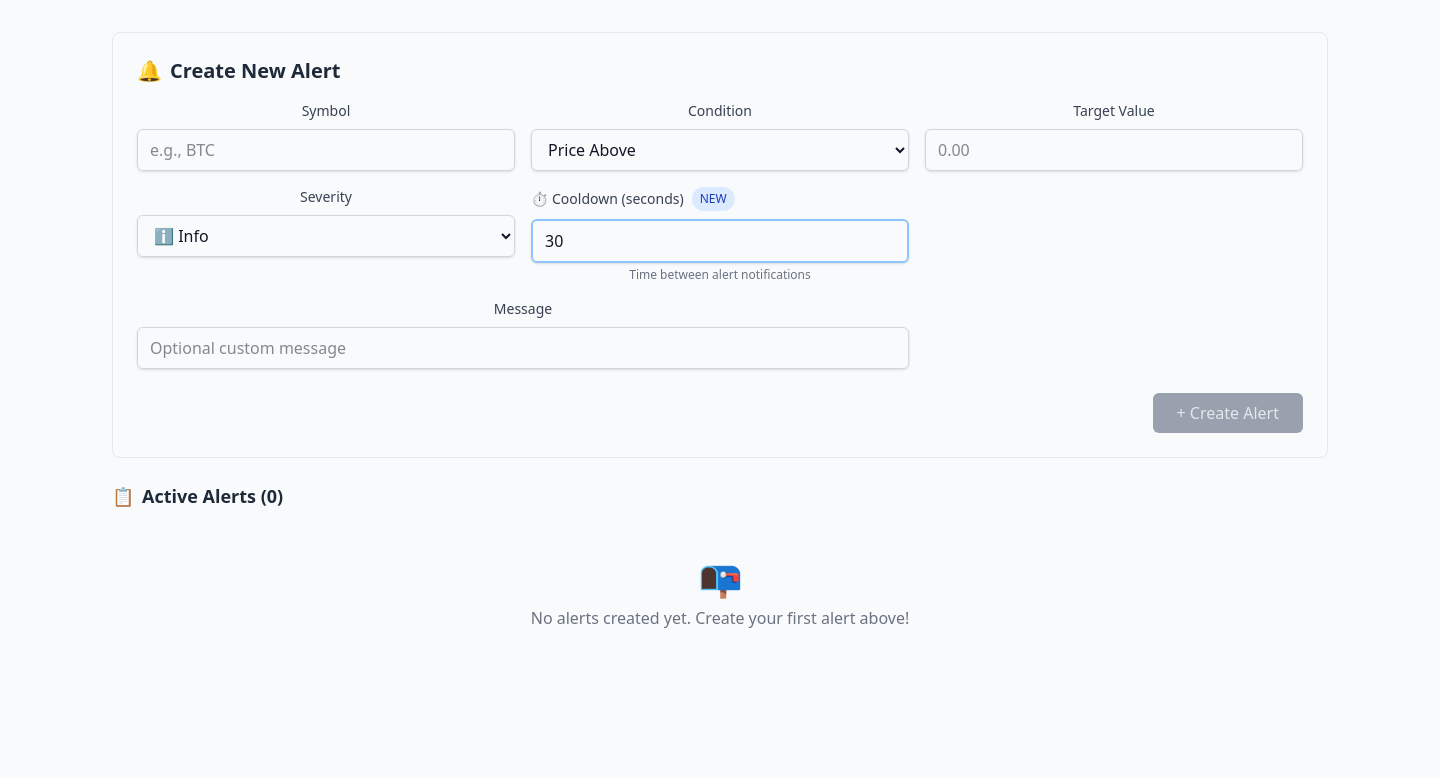
AlertManager › creates a new alert and shows it in the list
Type "BTC" into the field named "symbol" at (326, 150), box [137,129,515,171]
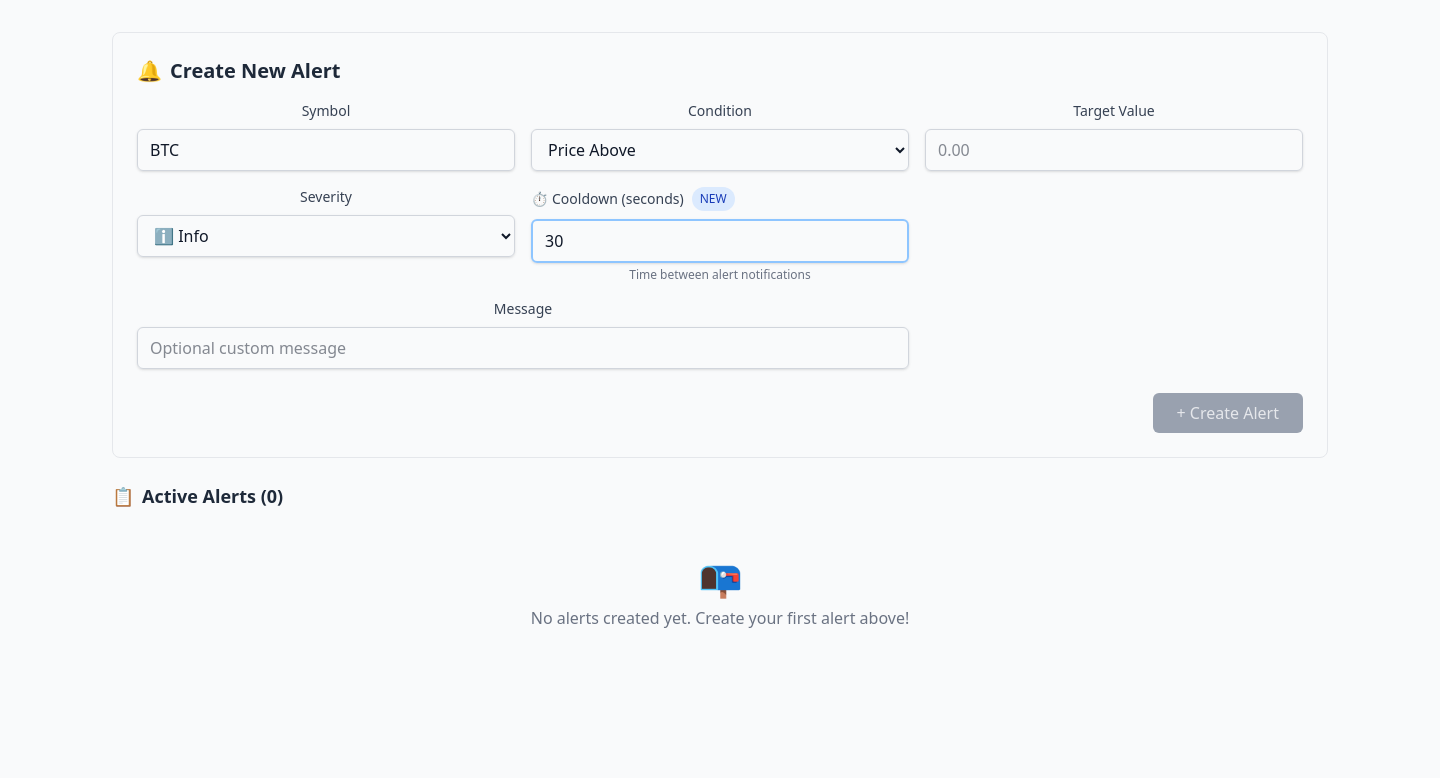
Type "50000" into the number field named "target value" at (1114, 150), box [925,129,1303,171]
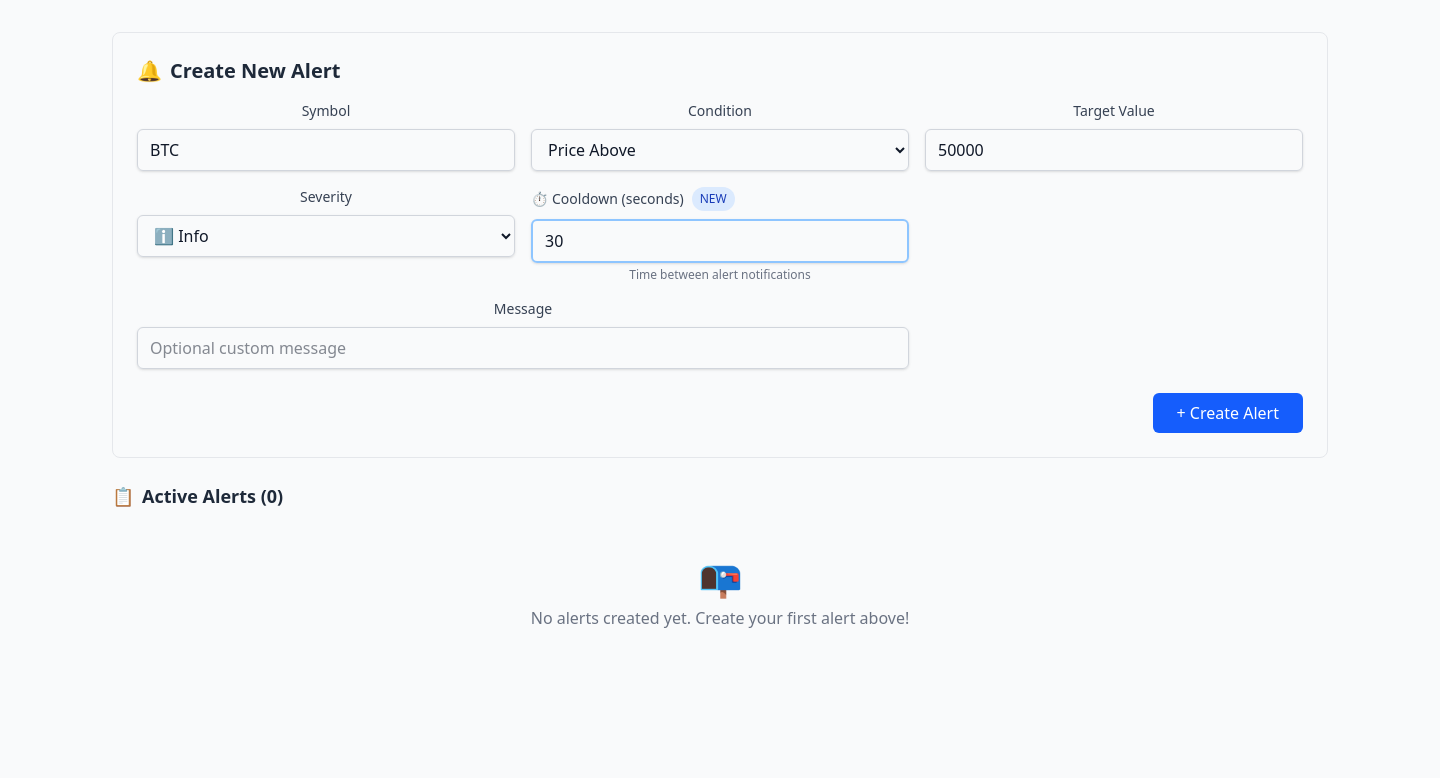
Type "Test alert" into the field labelled "Optional custom message" at (523, 348), box [137,327,909,369]
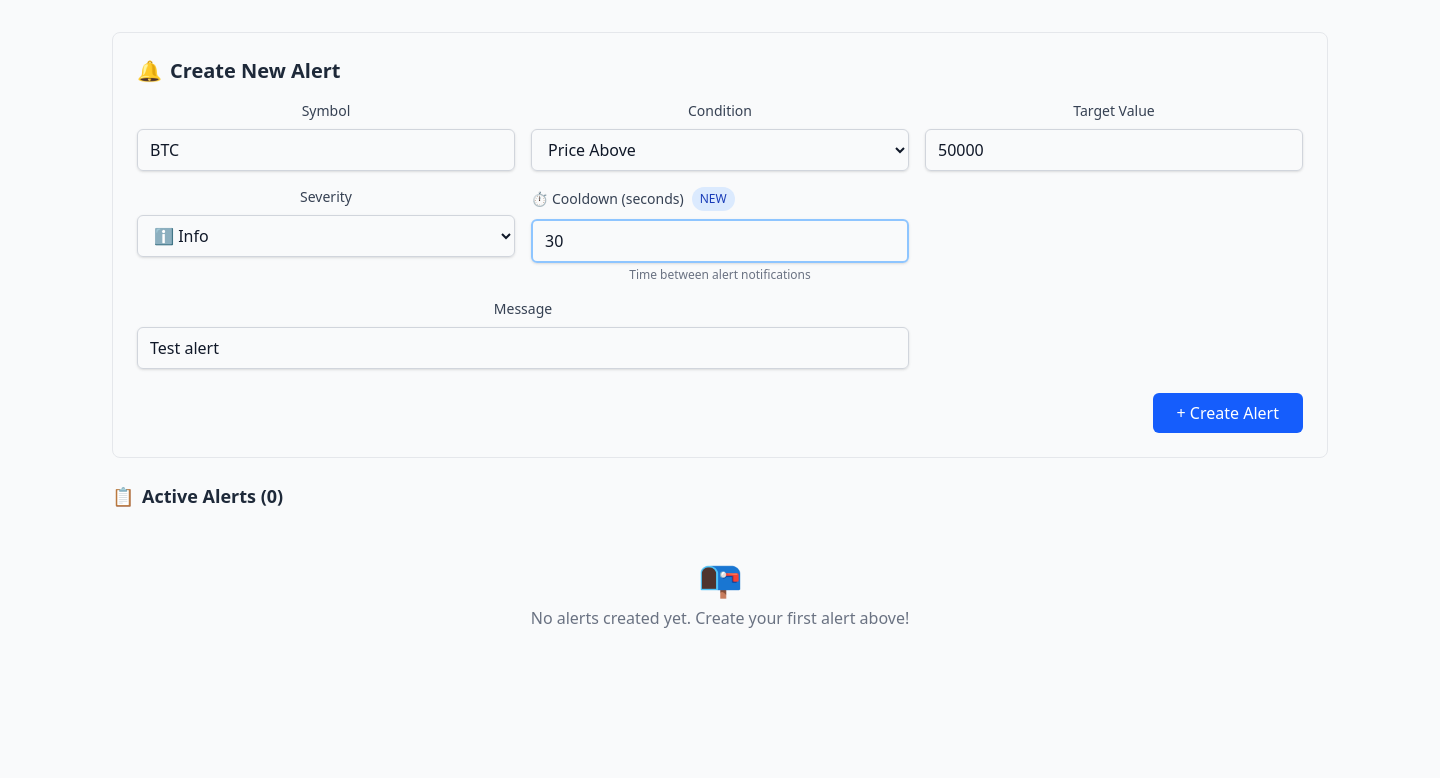
Click the button "+ Create Alert" at (1228, 413), box [1153,393,1303,433]
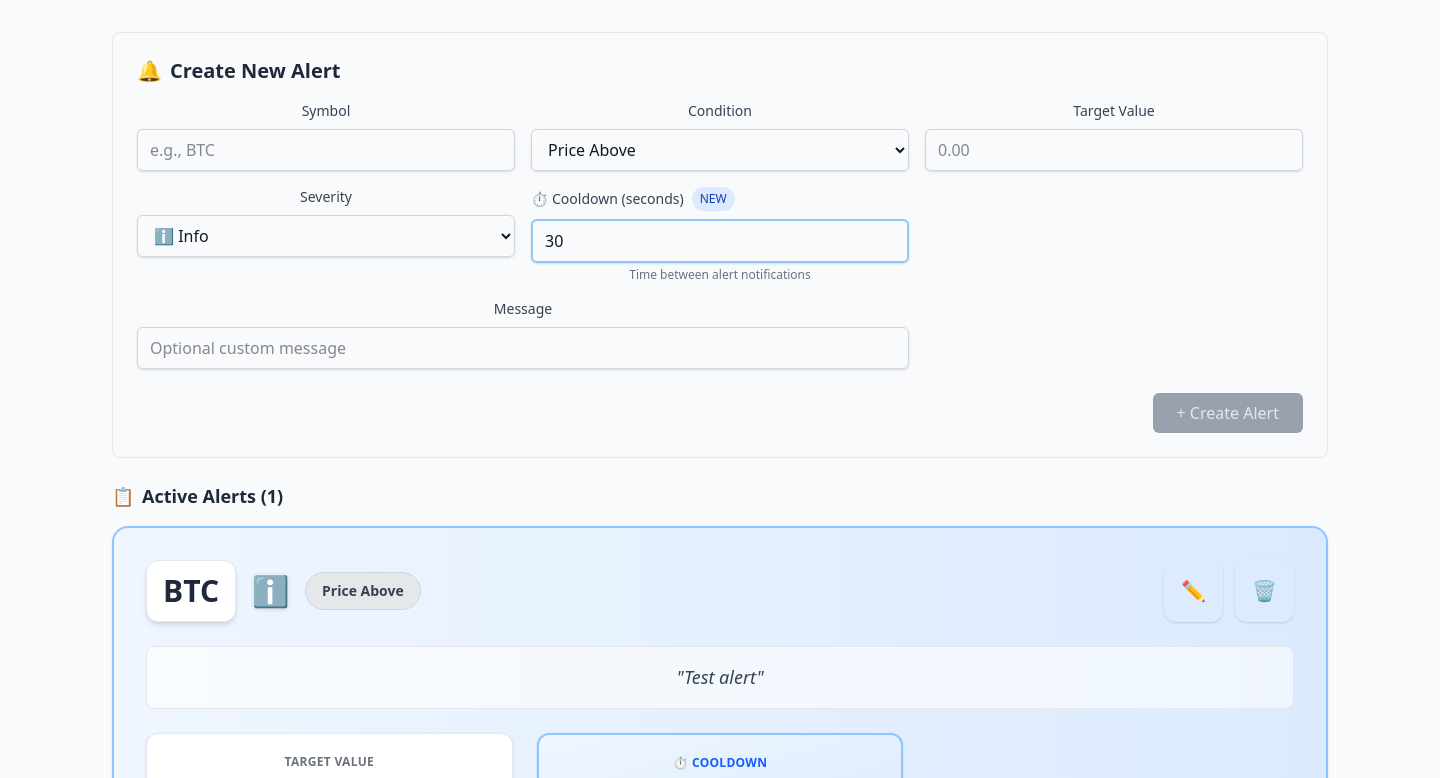
expect the text "BTC" is shown: met, box [146,560,236,622]
expect the text "\"Test alert\"" is shown: met, box [676,665,764,689]
